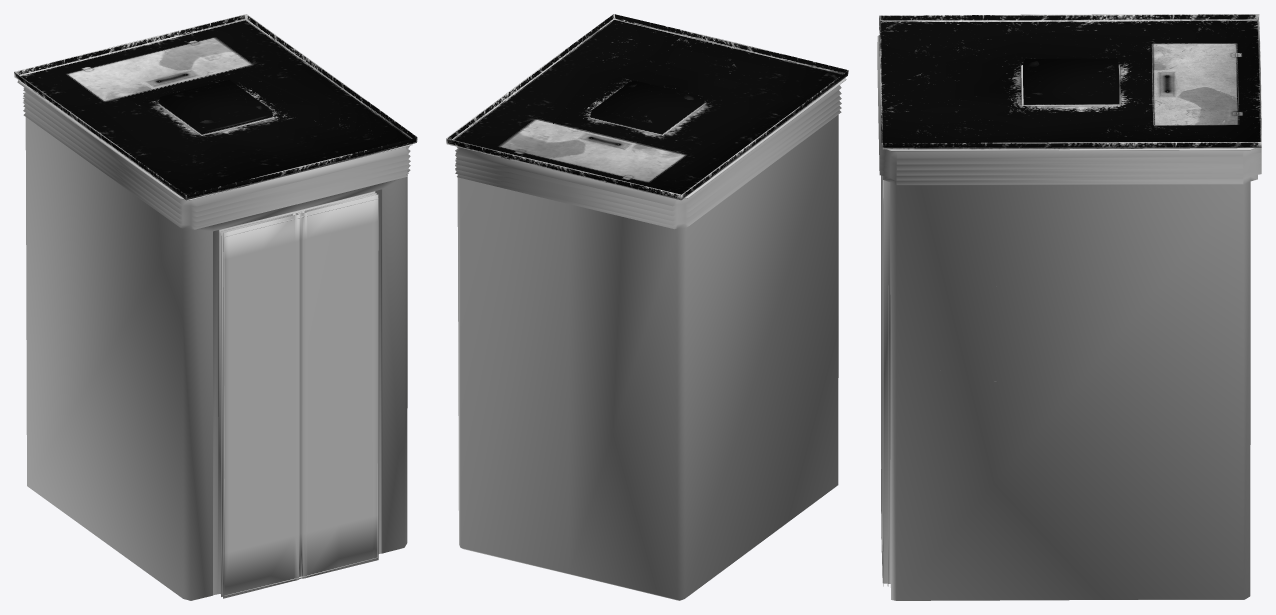
The model's file is lift2.fbx.
The picture shows the model from 3 angles, left to right: view 1: azimuth 30°, elevation 25°; view 2: azimuth 150°, elevation 25°; view 3: azimuth 270°, elevation 25°; orthographic projection. The views are drawn at different scales.
Visible parts, largest first — view 1: Box, roof_new, door_right, door_left; view 2: Box, roof_new; view 3: Box, roof_new, door_left.
Part boxes in pixels (box(x1,y1,x2,y2)): Box: box(17, 80, 412, 600); roof_new: box(14, 14, 417, 200); door_right: box(221, 212, 300, 598); door_left: box(299, 193, 378, 578); Box: box(455, 78, 846, 600); roof_new: box(446, 14, 848, 200); Box: box(877, 35, 1261, 600); roof_new: box(879, 14, 1261, 149); door_left: box(882, 176, 888, 586).
Bounding box in the file's own units: 581 × 963 × 721.
